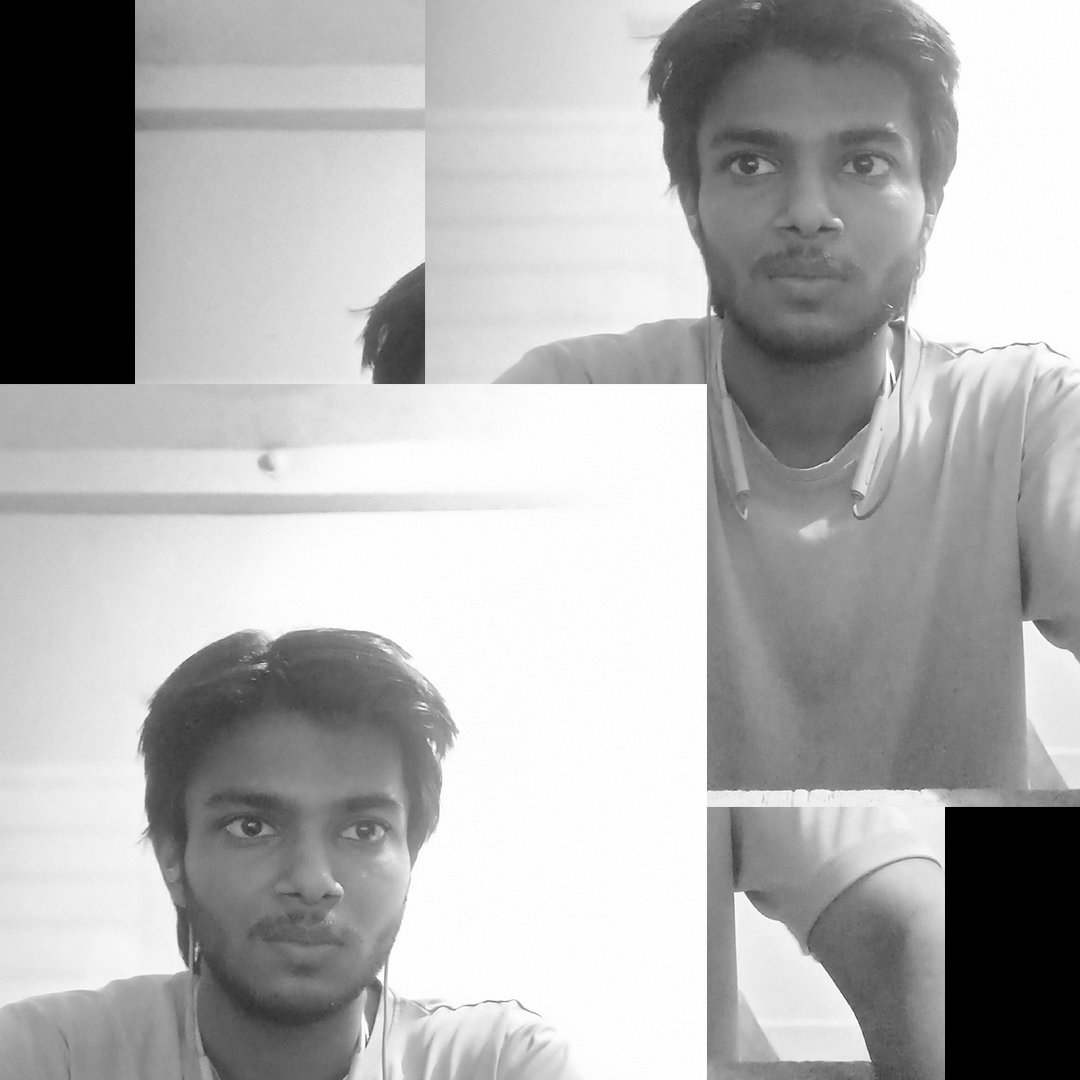Focused: (72, 534, 549, 1058), (580, 2, 992, 358)
